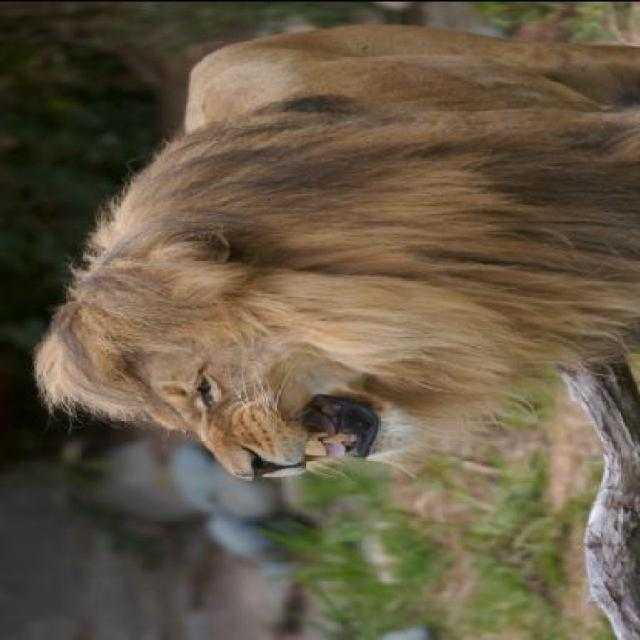Lion: (37, 22, 638, 489)
